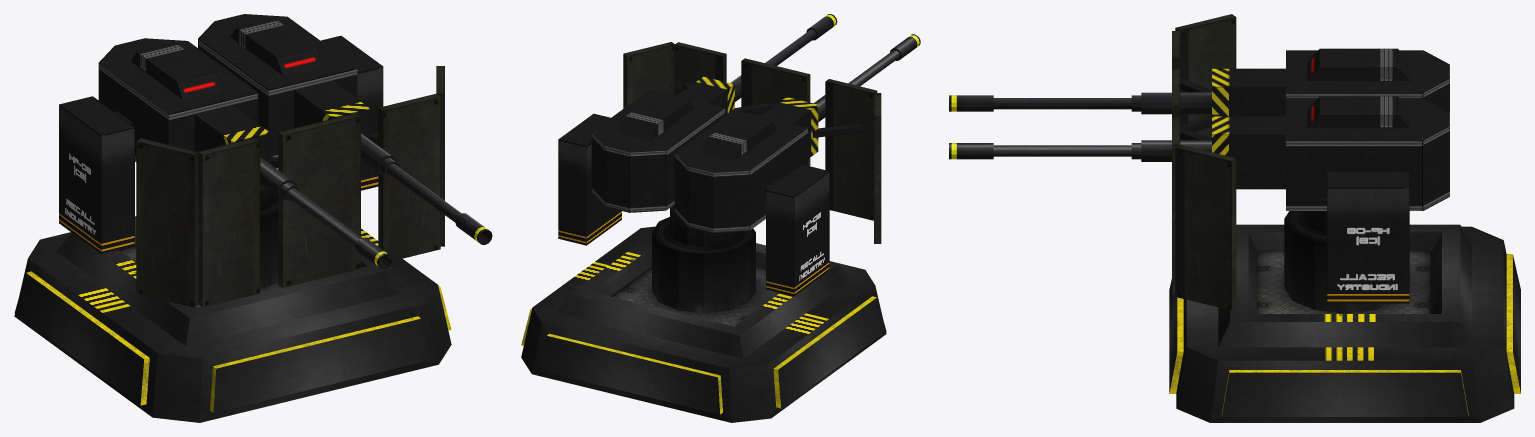
Rendered from MachineGunTowerLv2.fbx.
The picture shows the model from 3 angles, left to right: view 1: azimuth 30°, elevation 25°; view 2: azimuth 150°, elevation 25°; view 3: azimuth 270°, elevation 25°; orthographic projection. The views are drawn at different scales.
Visible parts, largest first — view 1: Main_Gun, Base, Gun_R, Gun_L, Base_Gun; view 2: Main_Gun, Base, Base_Gun, Gun_R, Gun_L; view 3: Main_Gun, Base, Base_Gun, Gun_R, Gun_L.
Boxes of the visible parts, bbox=[...] form: Main_Gun: bbox=[59, 14, 444, 307]; Base: bbox=[14, 216, 451, 422]; Gun_R: bbox=[260, 157, 392, 269]; Gun_L: bbox=[361, 133, 492, 244]; Base_Gun: bbox=[260, 189, 278, 288]; Main_Gun: bbox=[558, 42, 881, 296]; Base: bbox=[521, 226, 886, 422]; Base_Gun: bbox=[652, 205, 755, 313]; Gun_R: bbox=[813, 34, 920, 121]; Gun_L: bbox=[730, 14, 837, 101]; Main_Gun: bbox=[1172, 14, 1449, 310]; Base: bbox=[1169, 224, 1520, 422]; Base_Gun: bbox=[1284, 211, 1390, 313]; Gun_R: bbox=[949, 92, 1211, 114]; Gun_L: bbox=[949, 140, 1211, 161].
Size of the model in its own units: 24.9 by 21.08 by 40.51.
